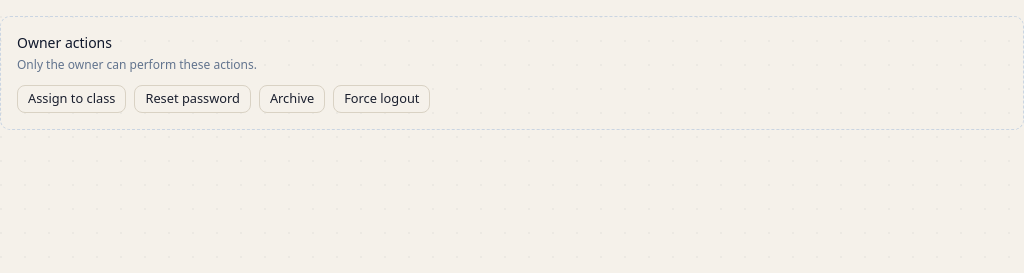
Test: OwnerActionsCard — AC12 archive › P1 no ghost warning when the member owns zero classes
Step 1. Click the button "Archive" → (292, 99), box [259,85,325,113]
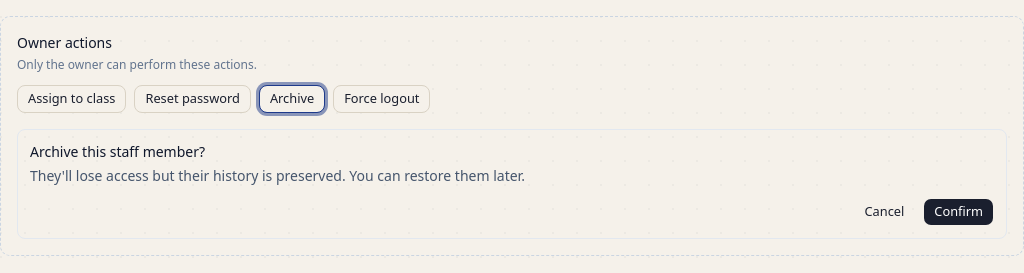
Expected: the button with test id "owner-action-confirm" is shown, [923,198,994,226]
